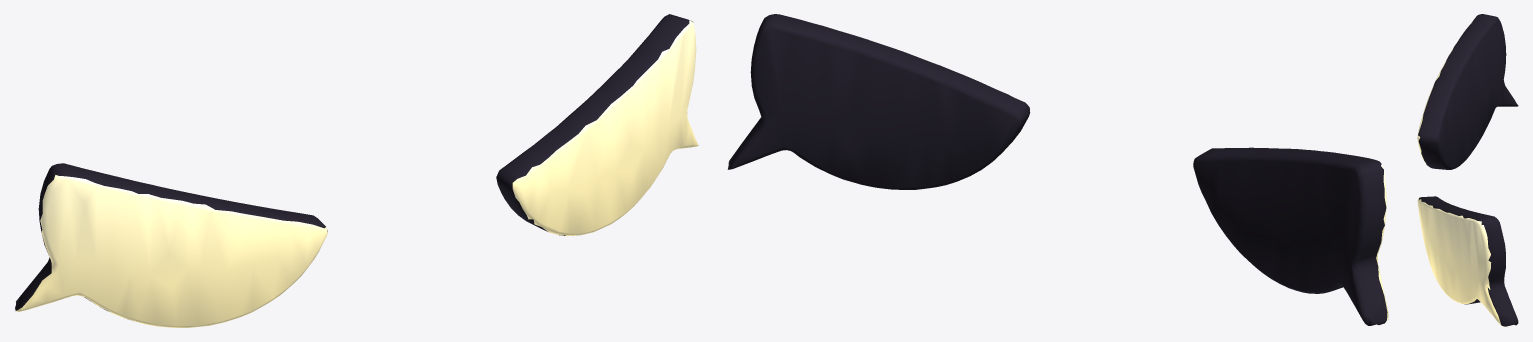
The model's file is eyes-fierce.glb.
The picture shows the model from 3 angles, left to right: view 1: azimuth 30°, elevation 25°; view 2: azimuth 150°, elevation 25°; view 3: azimuth 270°, elevation 25°; orthographic projection. The views are drawn at different scales.
Visible parts, largest first — view 1: eyes-fierce; view 2: eyes-fierce; view 3: eyes-fierce.
Boxes of the visible parts, box(x1,y1,x2,y2) form: eyes-fierce: box(15, 14, 698, 327); eyes-fierce: box(727, 14, 1388, 325); eyes-fierce: box(1417, 14, 1518, 326).
Bounding box in the file's own units: 0.5073 × 0.1167 × 0.0969.
